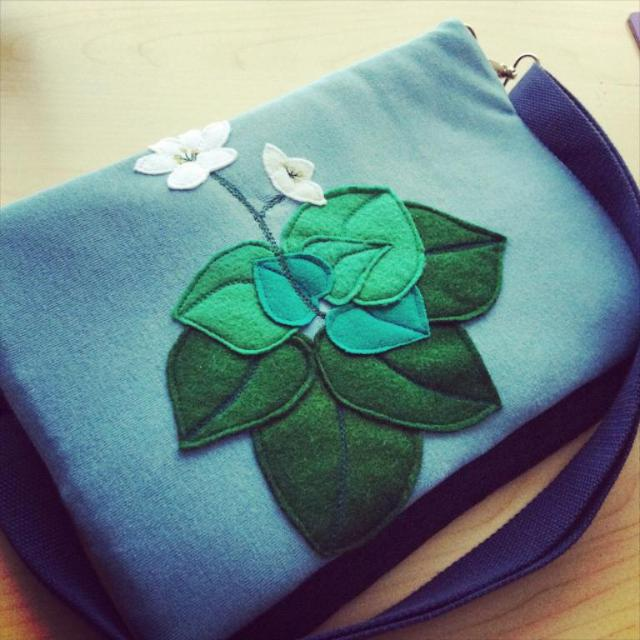Flower: (148, 118, 222, 182), (258, 144, 329, 208)
